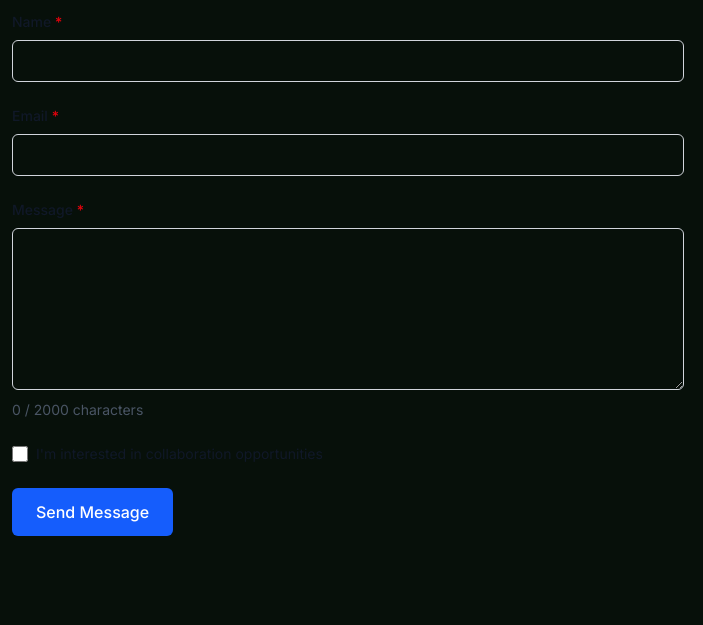
Scenario: FeedbackForm › submits form successfully
In the field labelled "Name *": point(348, 61) [12,40,684,82], type "John Doe"
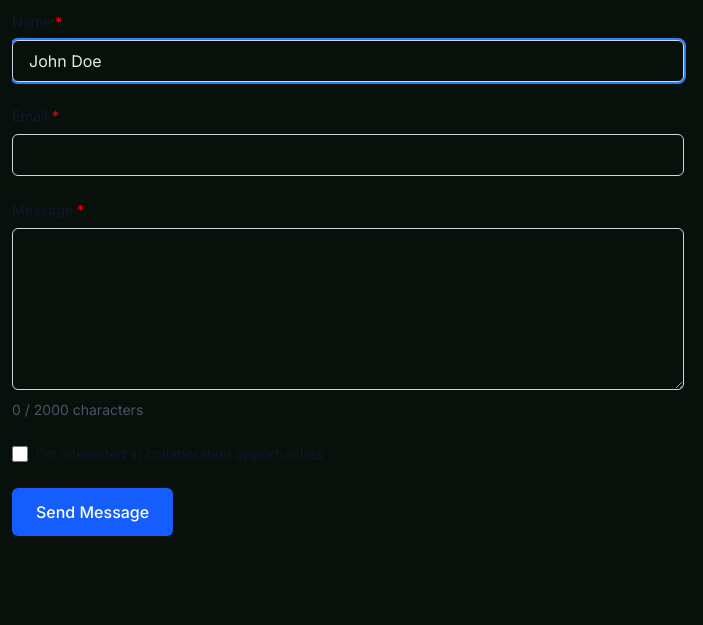
In the field labelled "Email *": point(348, 155) [12,134,684,176], type "john@example.com"
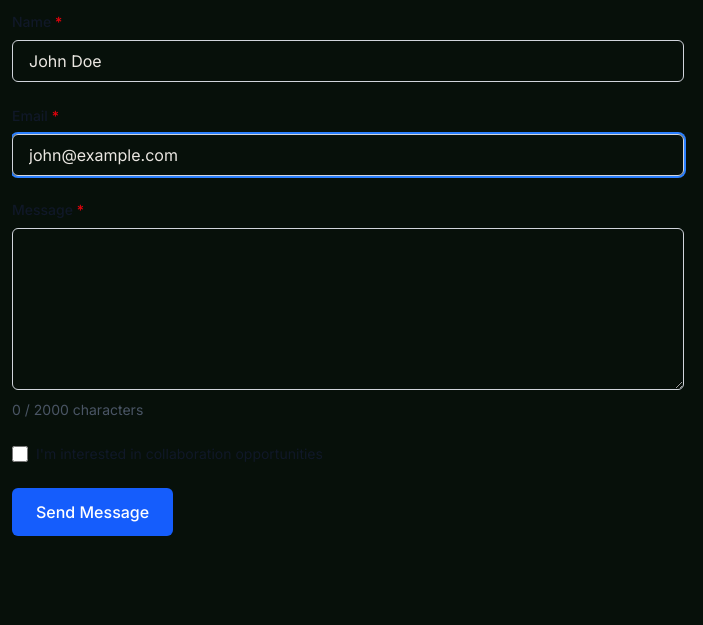
In the text box labelled "Message *": point(348, 309) [12,228,684,390], type "This is a test message that is long enough."
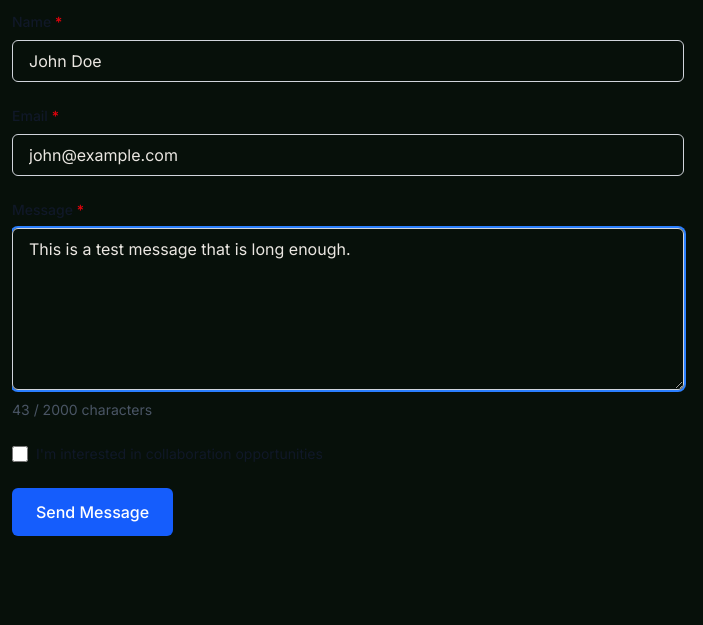
Click the button "Send Message": point(93, 512) [12,488,173,536]
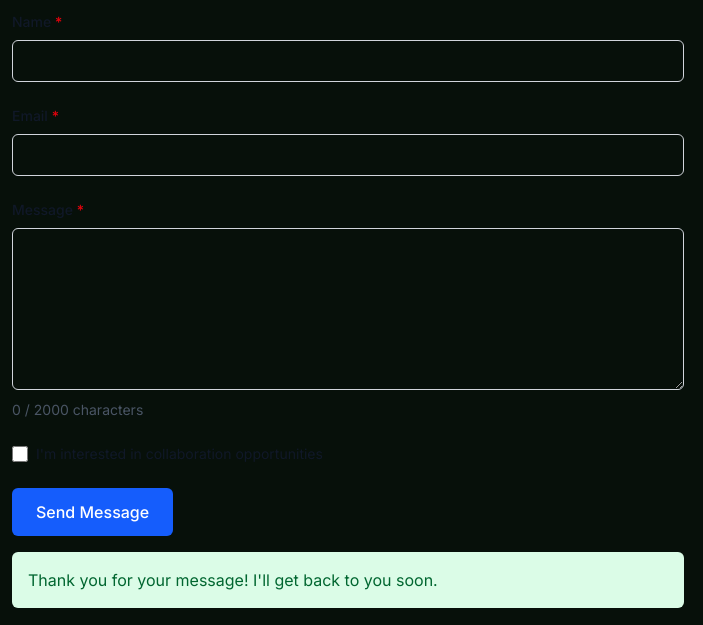
Now the text "Thank you for your message! I'll get back to you soon." is shown, box [12,552,684,608]
